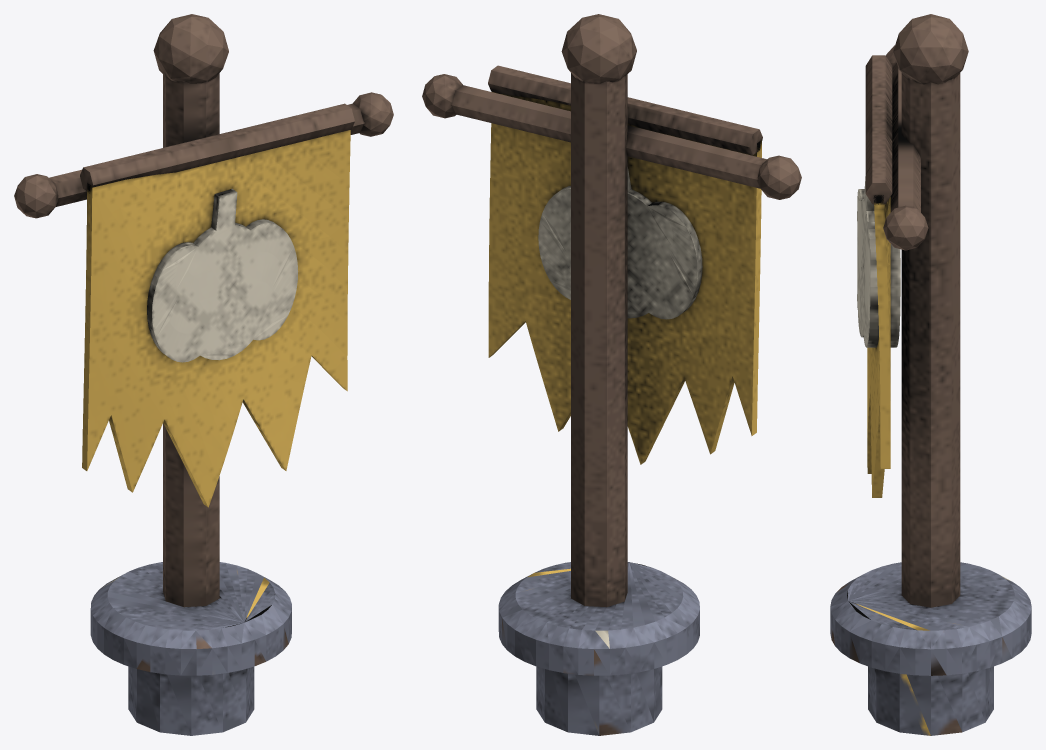
File: Banner_Calabaza_NaranjaDorado.glb
3 views of the same model, side by side, from view 1: azimuth 30°, elevation 25°; view 2: azimuth 150°, elevation 25°; view 3: azimuth 270°, elevation 25° (orthographic).
Parts seen in each view (by area): view 1: Cloth, Symbol_Front, BaseDisc, Pole, Hem, MountPeg, Finial, CrossbarKnob_1, CrossbarKnob_2, Crossbar; view 2: Cloth, Pole, BaseDisc, Symbol_Back, Crossbar, MountPeg, Hem, Finial, CrossbarKnob_1, CrossbarKnob_2; view 3: Pole, BaseDisc, MountPeg, Cloth, Finial, Hem, Symbol_Front, Crossbar, CrossbarKnob_2, Symbol_Back.
Part boxes in pixels (x1,y1,x2,y2): Cloth: (82,130,350,507); Symbol_Front: (147,188,298,362); BaseDisc: (90,562,291,675); Pole: (163,73,219,607); Hem: (80,103,354,193); MountPeg: (128,666,254,735); Finial: (153,14,228,83); CrossbarKnob_1: (14,174,58,218); CrossbarKnob_2: (353,92,393,136); Crossbar: (49,103,365,206); Cloth: (488,91,761,464); Pole: (571,73,627,607); BaseDisc: (498,562,699,675); Symbol_Back: (538,167,702,319); Crossbar: (451,85,766,188); MountPeg: (536,666,662,735); Hem: (488,65,762,155); Finial: (561,14,636,83); CrossbarKnob_1: (757,155,801,199); CrossbarKnob_2: (422,74,462,118); Pole: (901,73,960,607); BaseDisc: (830,562,1031,675); MountPeg: (868,666,993,735); Cloth: (867,195,890,497); Finial: (893,14,968,84); Hem: (865,55,892,204); Symbol_Front: (857,176,878,347); Crossbar: (890,63,920,212); CrossbarKnob_2: (883,205,928,250); Symbol_Back: (890,244,900,347).
Bounding box in the file's own units: 0.514 × 0.91 × 0.24.
4 materials, 4 textured.
